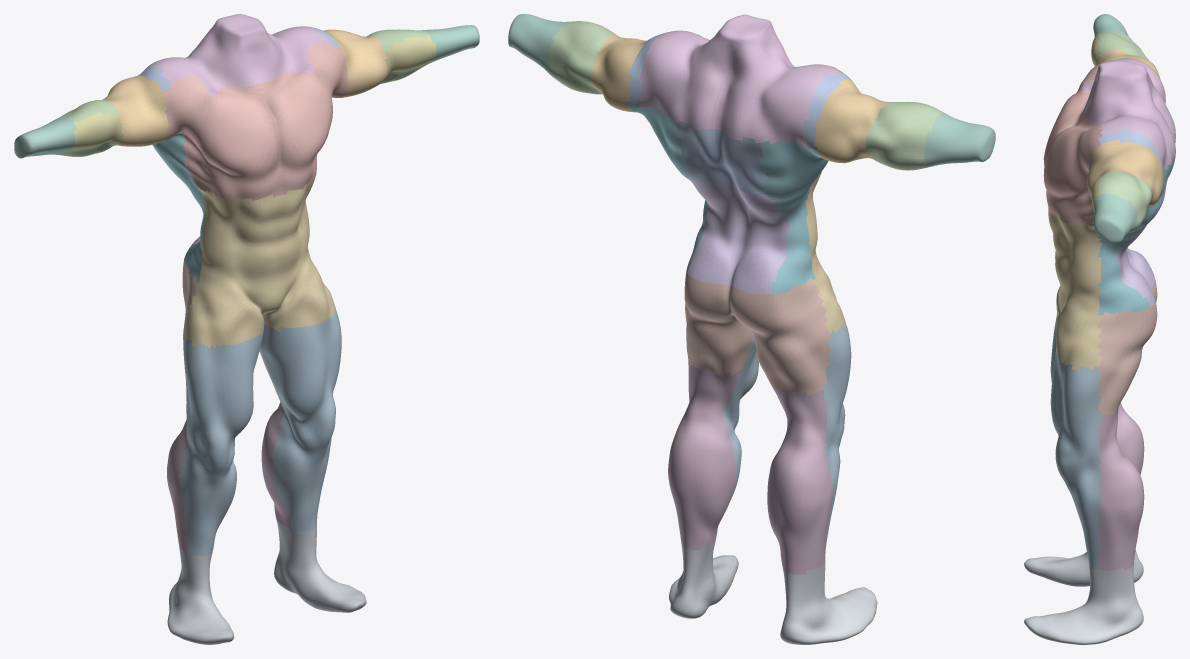
File: bodybuilder-segmented.glb
3 views of the same model, side by side, from view 1: azimuth 30°, elevation 25°; view 2: azimuth 150°, elevation 25°; view 3: azimuth 270°, elevation 25° (orthographic). The views are drawn at different scales.
Visible parts, largest first — view 1: Quads, Chest, Core, Calves, Traps, Shoulders, Forearms, Hamstrings, Biceps, Triceps, Lats; view 2: Hamstrings, Traps, Glutes, Calves, Lower Back, Lats, Triceps, Shoulders, Upper Back, Forearms, Quads, Core; view 3: Quads, Calves, Core, Hamstrings, Traps, Chest, Glutes, Shoulders, Lats, Forearms, Triceps, Lower Back (+2 smaller).
Part boxes in pixels (x1,y1,x2,y2): Quads: [179, 309, 341, 556]; Chest: [162, 42, 347, 200]; Core: [184, 179, 336, 348]; Calves: [167, 520, 366, 644]; Traps: [148, 14, 330, 97]; Shoulders: [102, 29, 387, 146]; Forearms: [14, 25, 479, 158]; Hamstrings: [167, 366, 291, 552]; Biceps: [71, 35, 436, 148]; Triceps: [57, 29, 431, 156]; Lats: [152, 133, 205, 282]; Hamstrings: [668, 362, 833, 574]; Traps: [638, 14, 839, 147]; Glutes: [684, 273, 831, 395]; Calves: [669, 539, 877, 644]; Lower Back: [687, 177, 790, 294]; Lats: [628, 104, 828, 293]; Triceps: [547, 21, 942, 170]; Shoulders: [591, 34, 890, 163]; Upper Back: [627, 32, 849, 196]; Forearms: [508, 14, 995, 166]; Quads: [685, 317, 851, 560]; Core: [805, 171, 846, 333]; Quads: [1050, 321, 1102, 569]; Calves: [1024, 550, 1143, 644]; Core: [1048, 207, 1102, 370]; Hamstrings: [1098, 403, 1144, 570]; Traps: [1081, 58, 1175, 169]; Chest: [1043, 63, 1102, 226]; Glutes: [1097, 278, 1157, 414]; Shoulders: [1087, 49, 1163, 206]; Lats: [1097, 164, 1171, 315]; Forearms: [1093, 14, 1137, 243]; Triceps: [1098, 31, 1151, 231]; Lower Back: [1116, 225, 1154, 306].
Bounding box in the file's own units: 1.73 × 2.1 × 0.5335.
